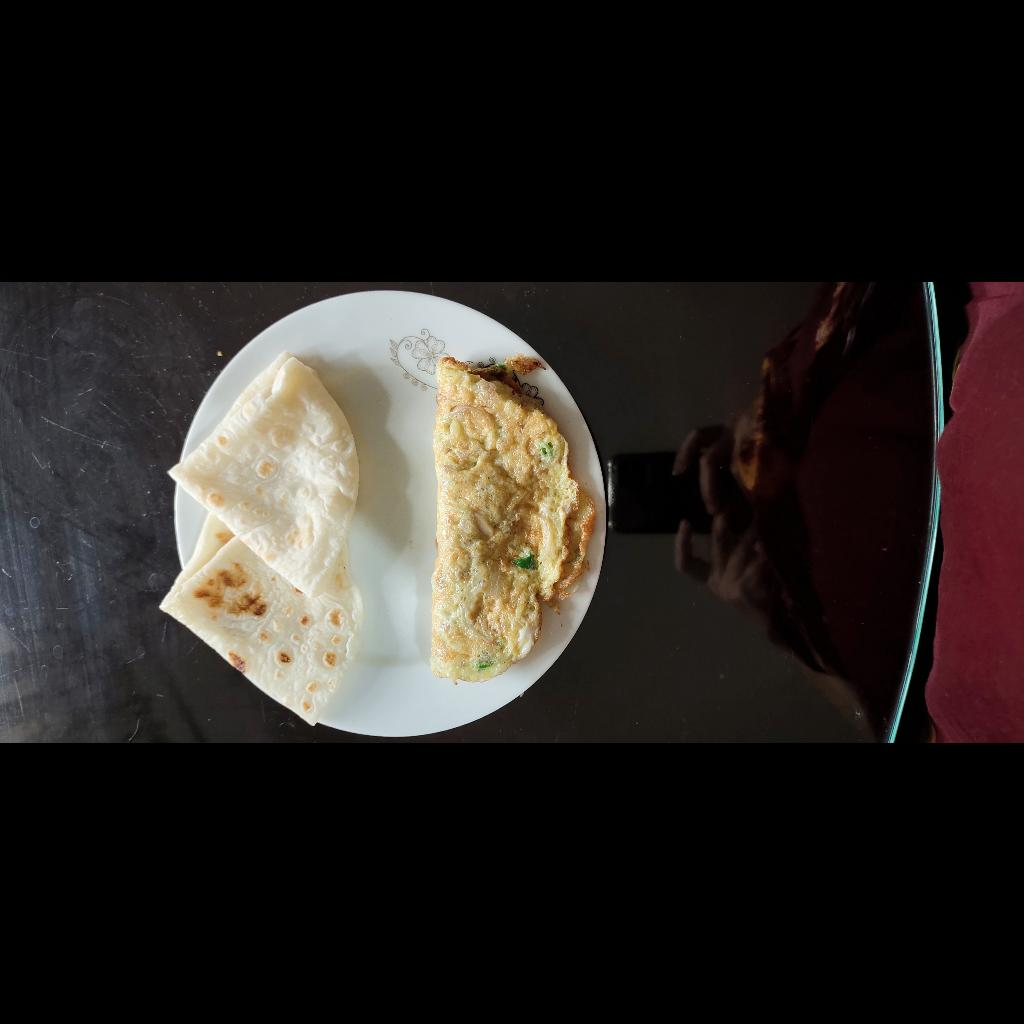egg-poached: (60, 711, 386, 881)
ruti: (14, 441, 394, 645)
